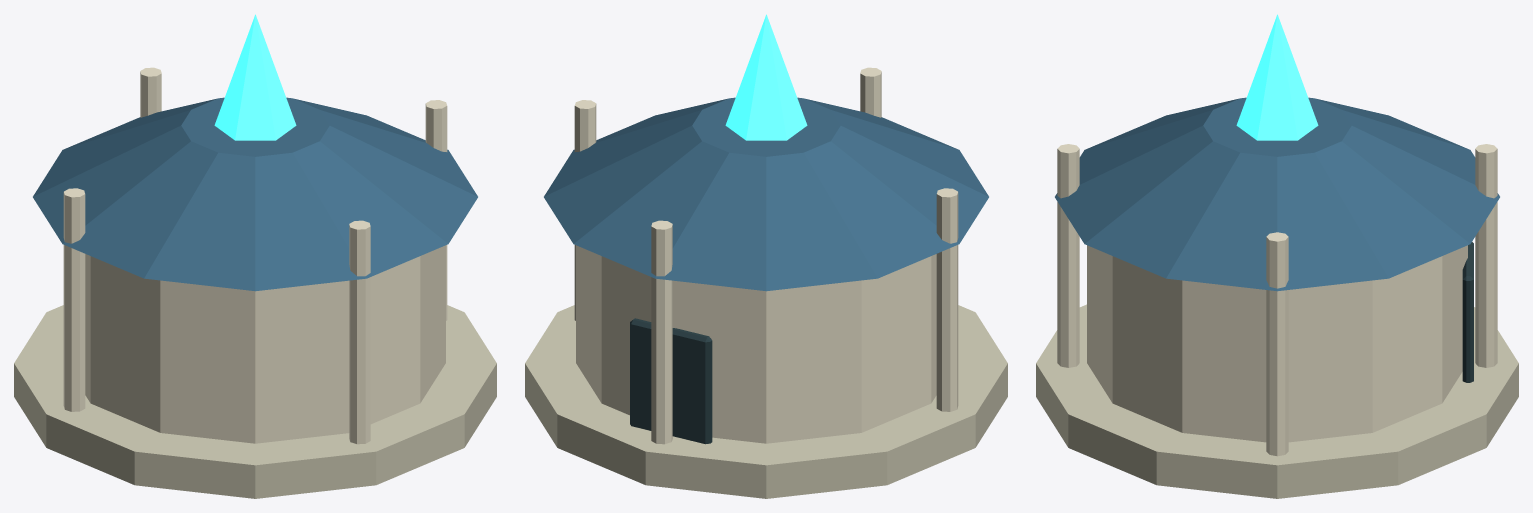
The model's file is level_06.glb.
The picture shows the model from 3 angles, left to right: view 1: azimuth 30°, elevation 25°; view 2: azimuth 150°, elevation 25°; view 3: azimuth 270°, elevation 25°; orthographic projection.
Visible parts, largest first — view 1: mage_guild — level 06; view 2: mage_guild — level 06; view 3: mage_guild — level 06.
Part boxes in pixels (x1,y1,x2,y2): mage_guild — level 06: [14, 14, 496, 498]; mage_guild — level 06: [525, 14, 1007, 498]; mage_guild — level 06: [1036, 14, 1518, 498].
Size of the model in its own units: 5.2 by 4.55 by 5.2.
